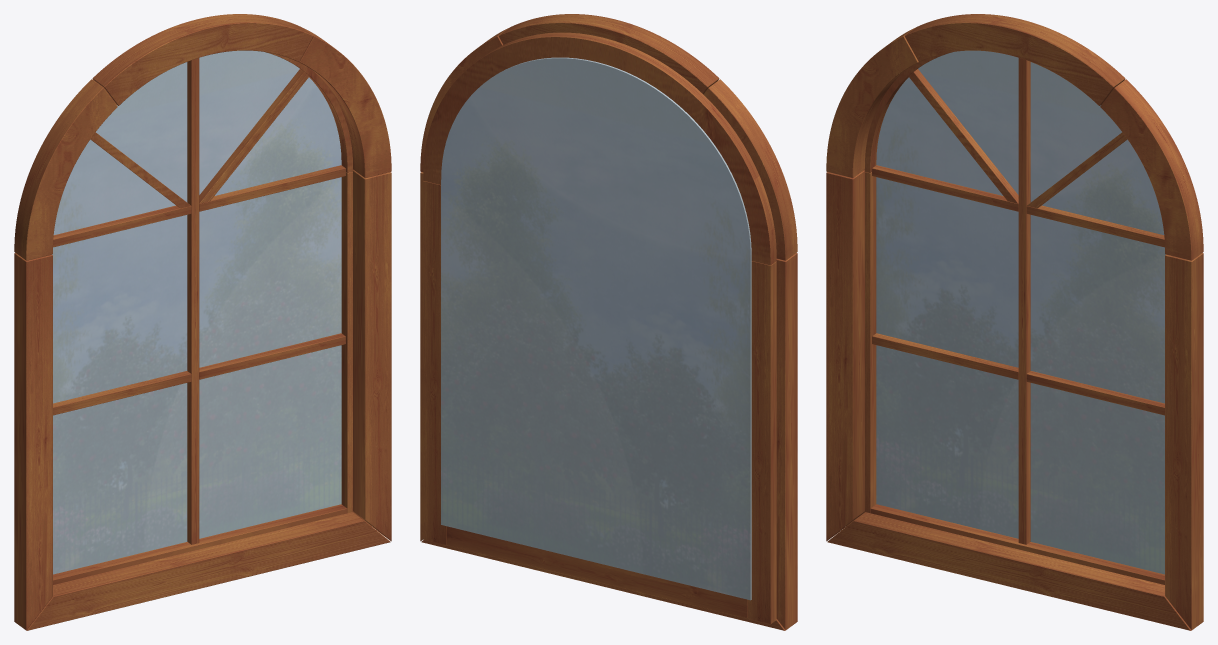
The picture shows the model from 3 angles, left to right: view 1: azimuth 30°, elevation 25°; view 2: azimuth 150°, elevation 25°; view 3: azimuth 330°, elevation 25°; orthographic projection.
Visible parts, largest first — view 1: glass, trim_left, trim_right, trim_bottom, trim_top, trim_top_left, muttin000, trim_top_right, window_right, window_bottom, muttin006, muttin002 (+5 smaller); view 2: glass, window_top, window_left, trim_left, window_right, window_bottom, trim_top, trim_top_left, trim_right, trim_bottom, trim_top_right; view 3: glass, trim_right, trim_left, trim_bottom, trim_top, trim_top_right, muttin000, trim_top_left, window_left, window_bottom, muttin005, muttin001 (+5 smaller).
Part boxes in pixels (left/top/right/bottom): glass: left=52, top=50, right=341, bottom=574; trim_left: left=14, top=253, right=52, bottom=629; trim_right: left=353, top=170, right=391, bottom=541; trim_bottom: left=26, top=512, right=390, bottom=630; trim_top: left=92, top=14, right=313, bottom=105; trim_top_left: left=14, top=79, right=117, bottom=260; muttin000: left=187, top=58, right=199, bottom=544; trim_top_right: left=299, top=28, right=391, bottom=177; window_right: left=341, top=172, right=362, bottom=519; window_bottom: left=53, top=504, right=347, bottom=584; muttin006: left=199, top=69, right=309, bottom=203; muttin002: left=199, top=333, right=345, bottom=379; glass: left=441, top=57, right=751, bottom=600; window_top: left=423, top=32, right=776, bottom=265; window_left: left=747, top=261, right=776, bottom=624; trim_left: left=776, top=253, right=797, bottom=629; window_right: left=423, top=181, right=446, bottom=544; window_bottom: left=446, top=526, right=747, bottom=618; trim_top: left=498, top=14, right=719, bottom=94; trim_top_left: left=703, top=79, right=797, bottom=260; trim_right: left=420, top=172, right=423, bottom=541; trim_bottom: left=421, top=540, right=785, bottom=630; trim_top_right: left=420, top=28, right=508, bottom=172; glass: left=876, top=50, right=1165, bottom=574; trim_right: left=1165, top=253, right=1203, bottom=629; trim_left: left=826, top=170, right=864, bottom=541; trim_bottom: left=827, top=512, right=1191, bottom=630; trim_top: left=904, top=14, right=1125, bottom=105; trim_top_right: left=1100, top=79, right=1203, bottom=260; muttin000: left=1018, top=58, right=1030, bottom=544; trim_top_left: left=826, top=28, right=918, bottom=177; window_left: left=855, top=172, right=876, bottom=519; window_bottom: left=870, top=504, right=1164, bottom=584; muttin005: left=908, top=69, right=1018, bottom=203; muttin001: left=872, top=333, right=1018, bottom=379.
Bounding box in the file's own units: 35 × 51.12 × 3.17.
5 materials, 5 textured.
